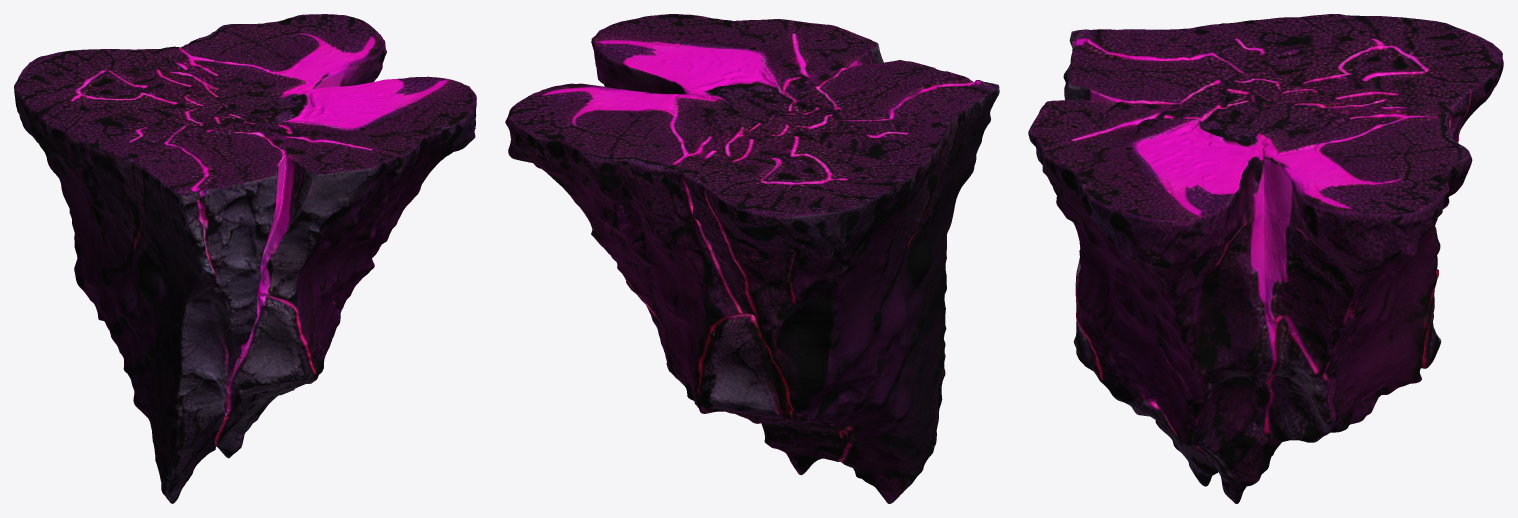
File: shelf-break-6-generated-2026-05-17T20-50-14-459Z.glb
3 views of the same model, side by side, from view 1: azimuth 30°, elevation 25°; view 2: azimuth 150°, elevation 25°; view 3: azimuth 270°, elevation 25° (orthographic). The views are drawn at different scales.
Parts seen in each view (by area): view 1: temp_mesh.ply; view 2: temp_mesh.ply; view 3: temp_mesh.ply.
Part boxes in pixels (x1,y1,x2,y2): temp_mesh.ply: (14, 14, 476, 503); temp_mesh.ply: (505, 14, 999, 503); temp_mesh.ply: (1028, 14, 1503, 503).
Size of the model in its own units: 1.96 by 1.88 by 1.88.
1 material, 1 textured.
